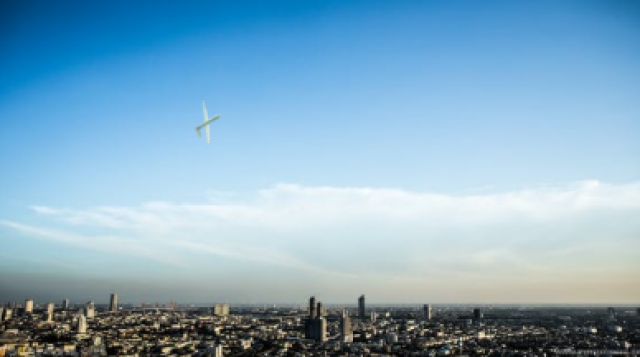military drone: (195, 99, 220, 144)
